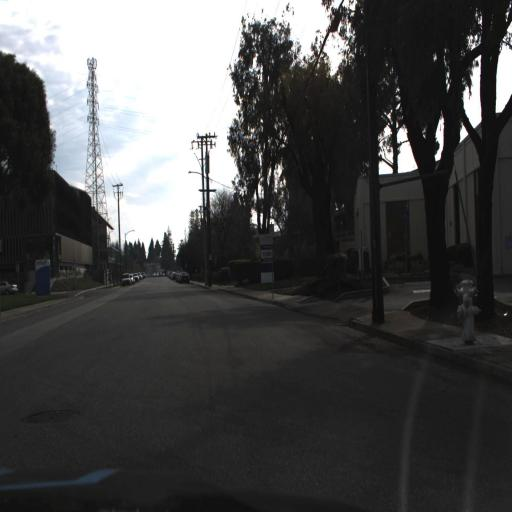car: (0, 276, 21, 297)
